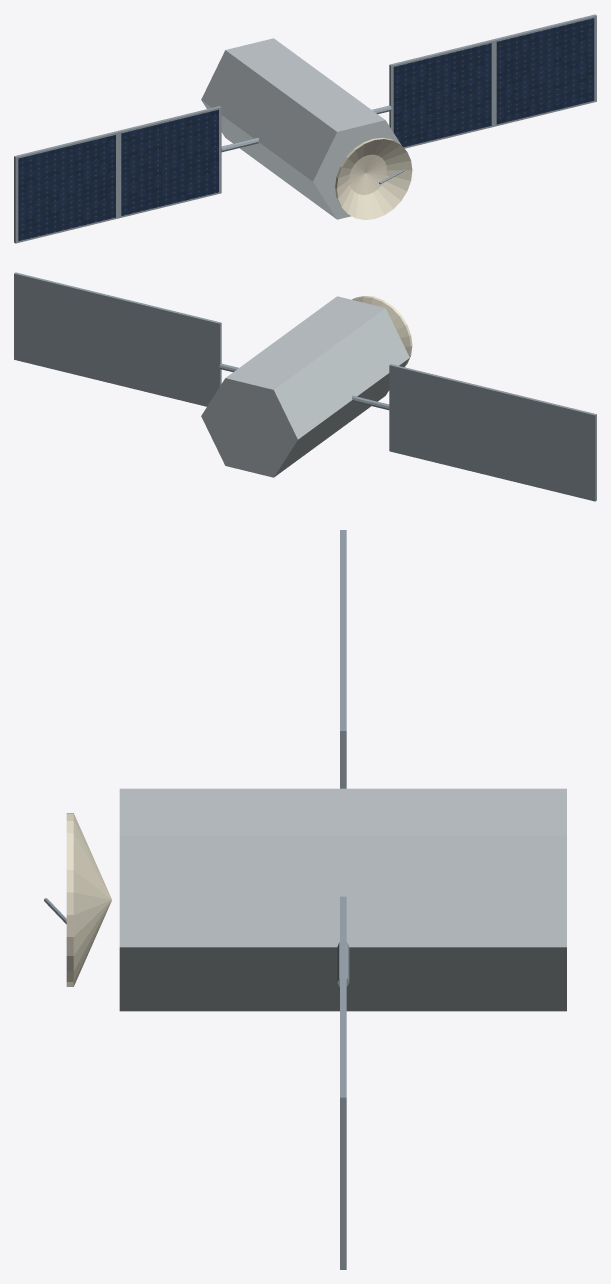
Rendered from ref-tecsar-32476.glb.
3 renders of one model, top to bottom at view 1: azimuth 30°, elevation 25°; view 2: azimuth 150°, elevation 25°; view 3: azimuth 270°, elevation 25°, orthographic. The views are drawn at different scales.
Visible parts, largest first — view 1: Photovoltaic laminates (×4), Spacecraft body, Array frame (×4), Reflector dish; view 2: Array frame (×4), Spacecraft body, Reflector dish; view 3: Spacecraft body, Reflector dish, Array frame (×2).
Boxes of the visible parts, x1,y1,x2,y2 form: Photovoltaic laminates (×4): (18,18,594,241); Spacecraft body: (201,38,401,219); Array frame (×4): (14,14,596,243); Reflector dish: (335,137,412,219); Array frame (×4): (14,272,596,501); Spacecraft body: (201,296,409,477); Reflector dish: (352,296,412,367); Spacecraft body: (119,788,566,1011); Reflector dish: (66,813,111,986); Array frame (×2): (340,630,346,1269).
Size of the model in its own units: 3 by 0.433 by 1.17.
4 materials, 1 textured.
